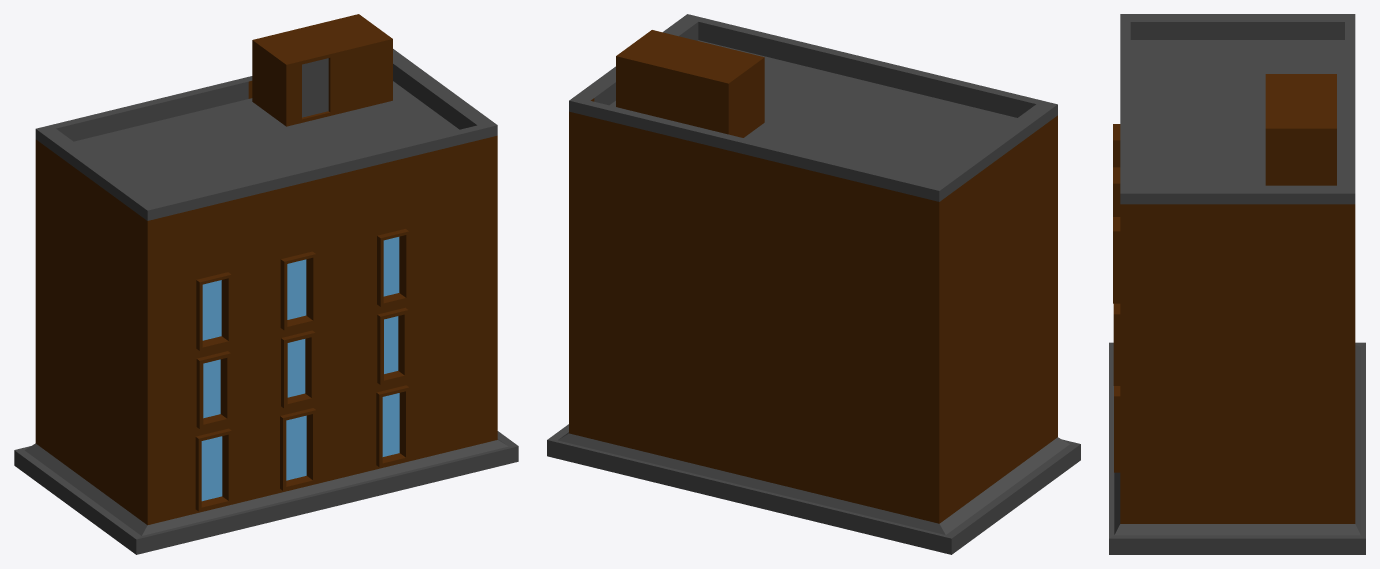
The model's file is half_building.fbx.
3 renders of one model, left to right at view 1: azimuth 30°, elevation 25°; view 2: azimuth 150°, elevation 25°; view 3: azimuth 270°, elevation 25°, orthographic. The views are drawn at different scales.
Visible parts, largest first — view 1: Cube; view 2: Cube; view 3: Cube.
Boxes of the visible parts, bbox=[...] form: Cube: bbox=[14, 14, 518, 554]; Cube: bbox=[547, 14, 1080, 554]; Cube: bbox=[1109, 14, 1365, 554].
Size of the model in its own units: 9053 by 8614 by 5011.
